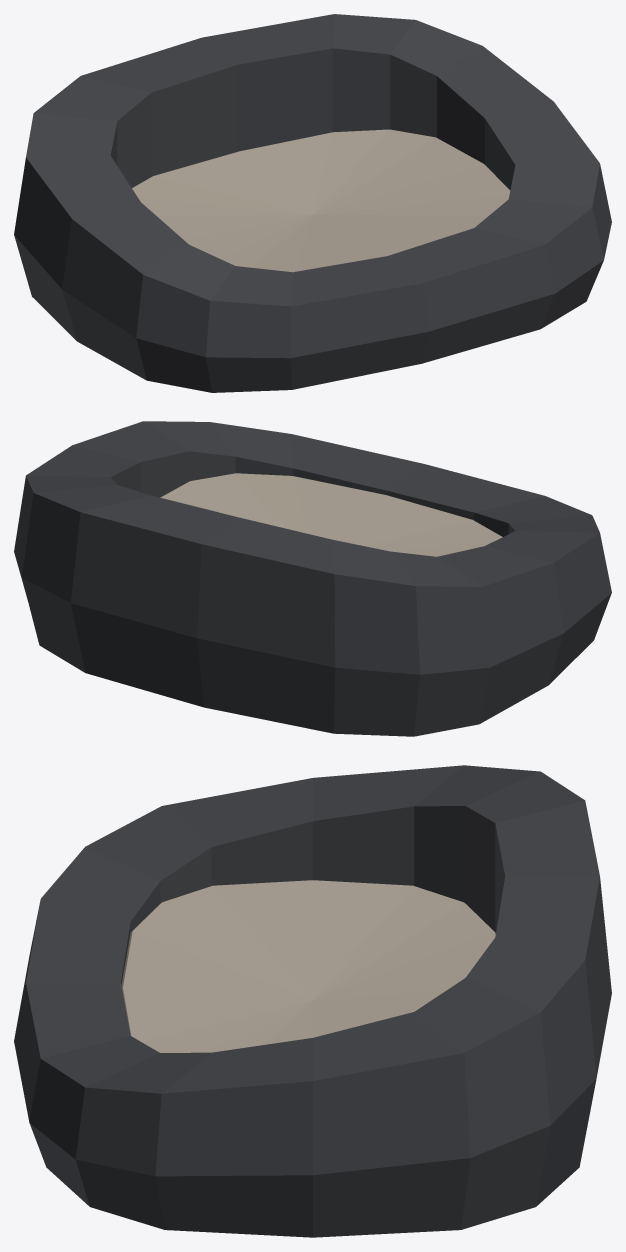
Rendered from FN_Bed_Dog.glb.
3 renders of one model, top to bottom at view 1: azimuth 30°, elevation 25°; view 2: azimuth 150°, elevation 25°; view 3: azimuth 270°, elevation 25°, orthographic. The views are drawn at different scales.
Parts seen in each view (by area): view 1: FN_Bed_Dog; view 2: FN_Bed_Dog; view 3: FN_Bed_Dog.
Part boxes in pixels (x1=…): FN_Bed_Dog: x1=14, y1=14, x2=611, y2=392; FN_Bed_Dog: x1=14, y1=421, x2=611, y2=736; FN_Bed_Dog: x1=14, y1=765, x2=611, y2=1237.
Bounding box in the file's own units: 0.7 × 0.22 × 0.56.
Materials: 1 (1 with a texture image).
